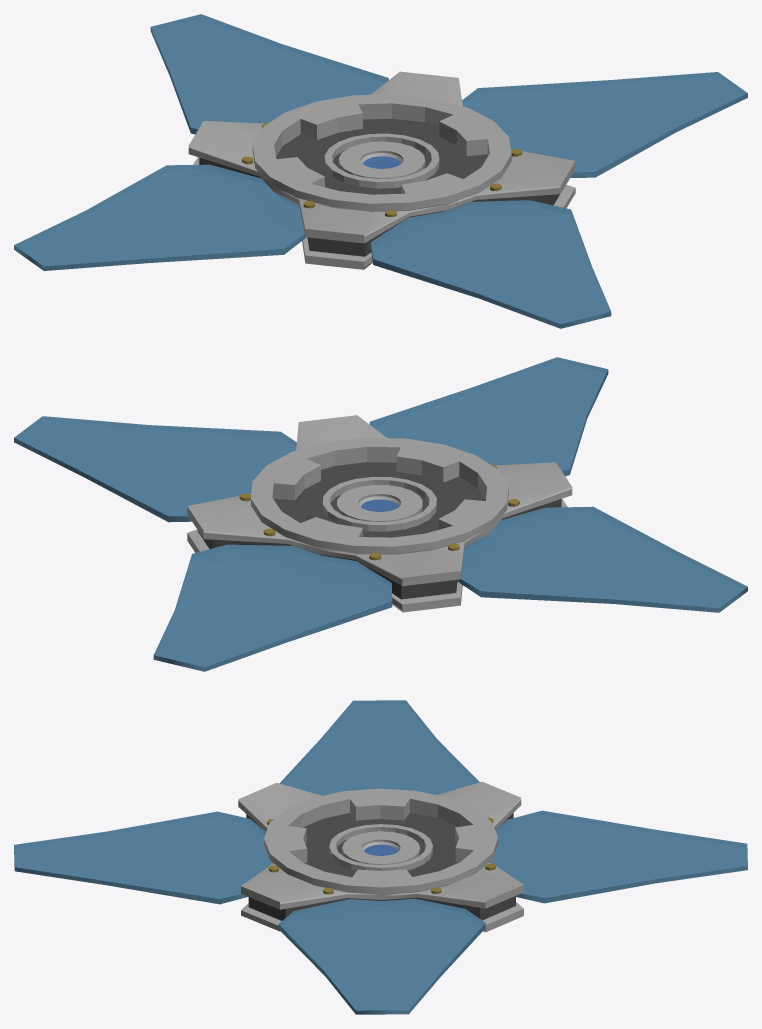
The model's file is fan_02.fbx.
3 views of the same model, one above another, from view 1: azimuth 30°, elevation 25°; view 2: azimuth 150°, elevation 25°; view 3: azimuth 270°, elevation 25° (orthographic). The views are drawn at different scales.
Visible parts, largest first — view 1: fan_blades; view 2: fan_blades; view 3: fan_blades.
Boxes of the visible parts, bbox=[...] form: fan_blades: bbox=[14, 14, 747, 328]; fan_blades: bbox=[14, 357, 747, 671]; fan_blades: bbox=[14, 700, 747, 1014].
Bounding box in the file's own units: 24.44 × 1.44 × 24.44.
